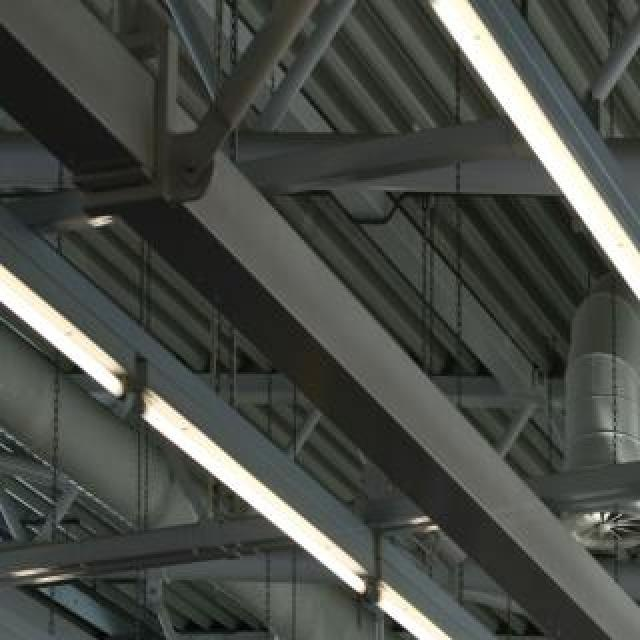fluorescent tube: (376, 0, 640, 342), (127, 360, 382, 624), (0, 253, 175, 445), (328, 540, 554, 640), (0, 608, 194, 640), (636, 300, 640, 548)
